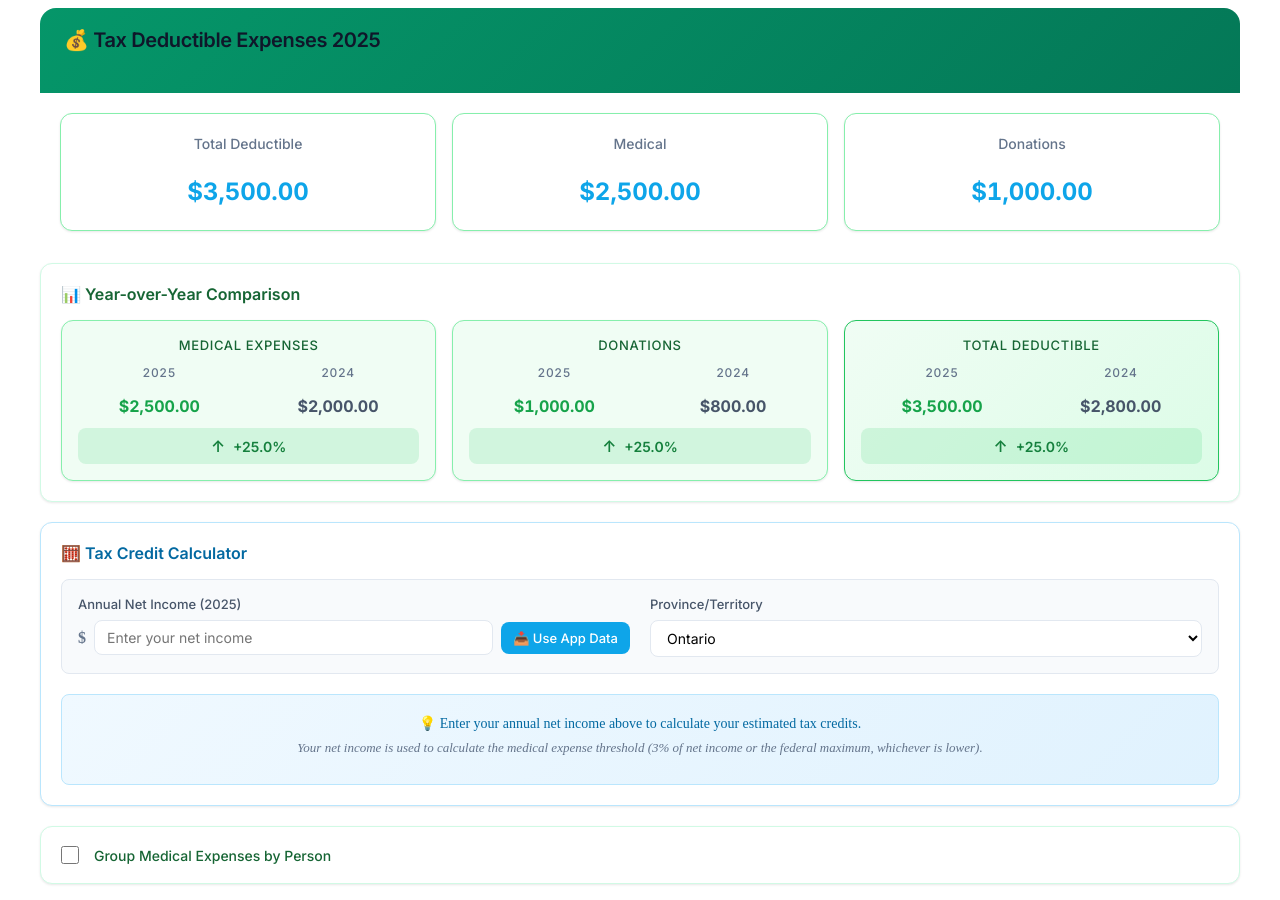
Test: TaxDeductible Analytics Integration Tests › Tax Credit Calculator UI Rendering - Requirements 8.1, 8.4 › should update calculations when net income is entered
Note: Enter net income
Type "75000" into the number field labelled "Annual Net Income (2025)". click: (294, 638)
box: [94,620,493,655]
(page scrolled)
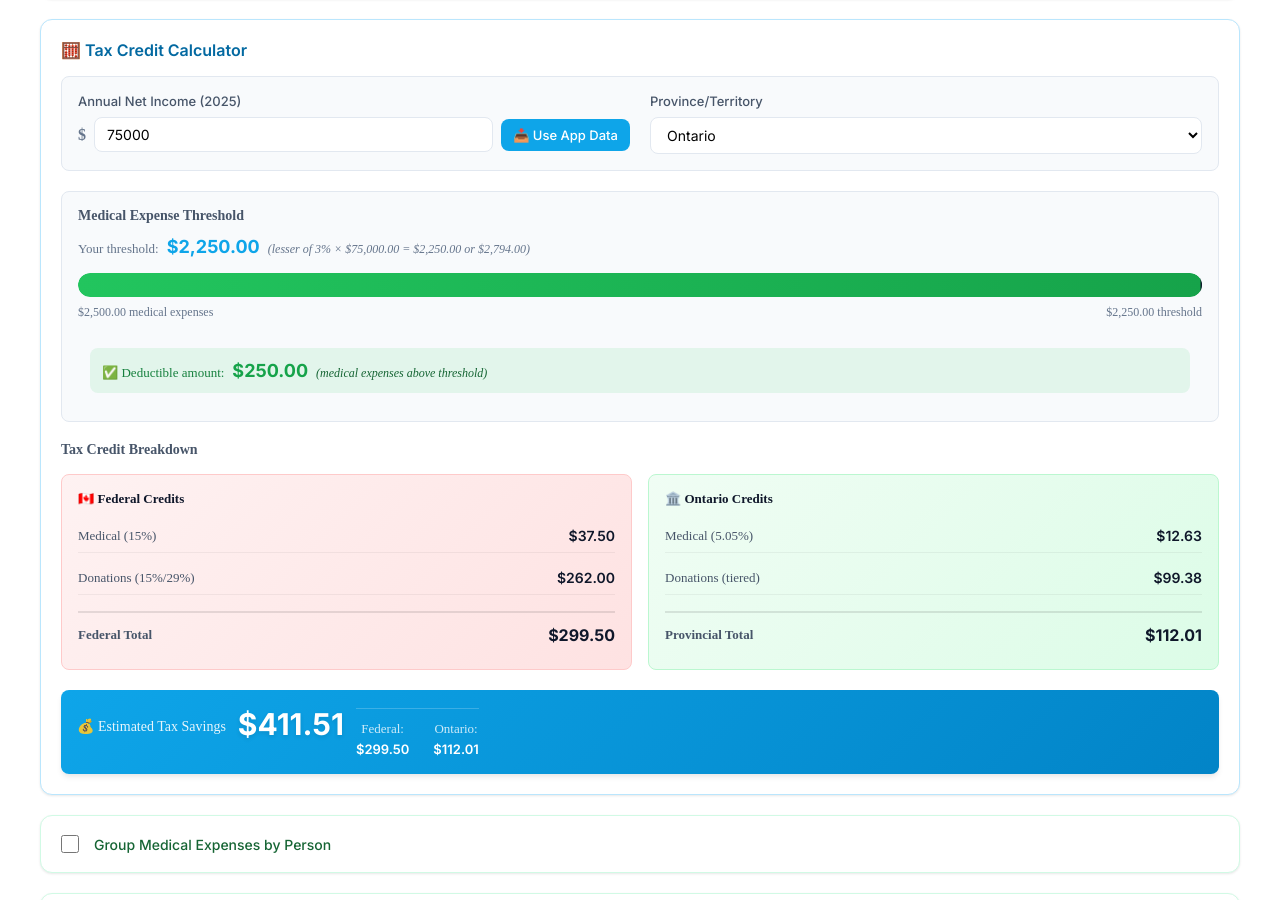
Result: the heading "Tax Credit Breakdown" is shown at [61,442,198,457]
